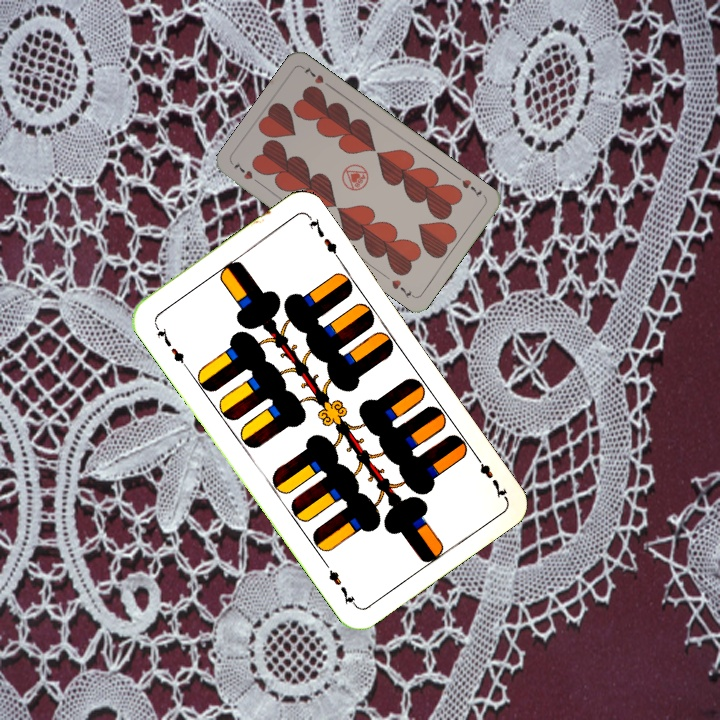E7: (150, 320, 191, 371), (469, 449, 509, 501)
H7: (230, 158, 264, 188), (452, 172, 485, 200)
